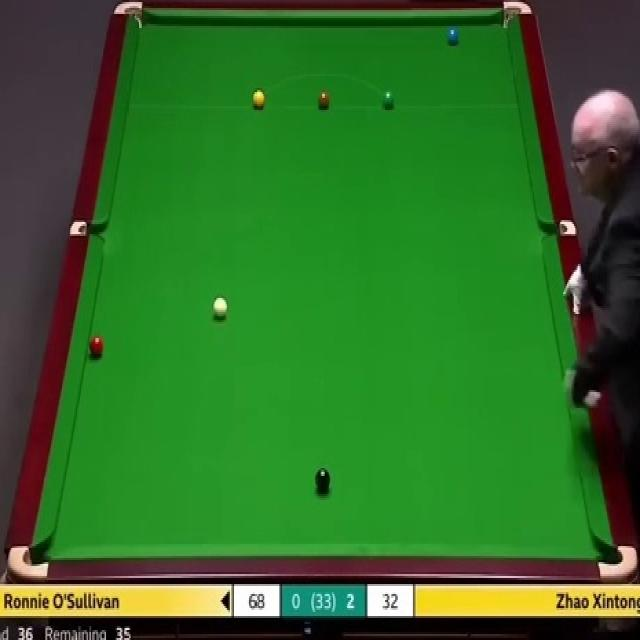pocket: (5, 543, 49, 583), (596, 543, 637, 580), (112, 0, 145, 34), (500, 0, 532, 31), (69, 220, 107, 237), (539, 222, 576, 236)
